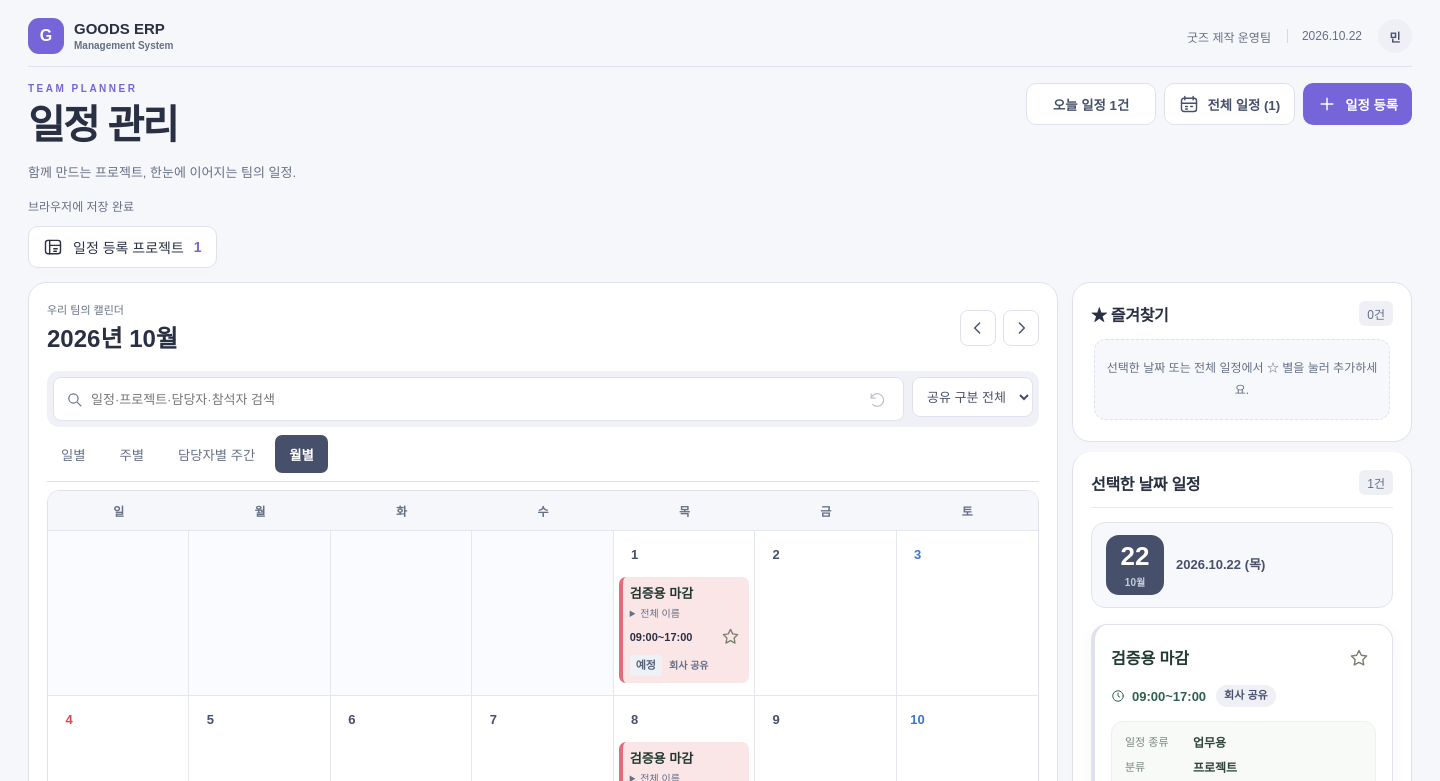
Test: 검색한 반복 일정도 선택 날짜에서 상태 변경·수정·삭제하면 해당 발생일에 적용된다
Type "검증용" into the field named "일정 검색". click: (473, 399)
box: [91,378,855,420]
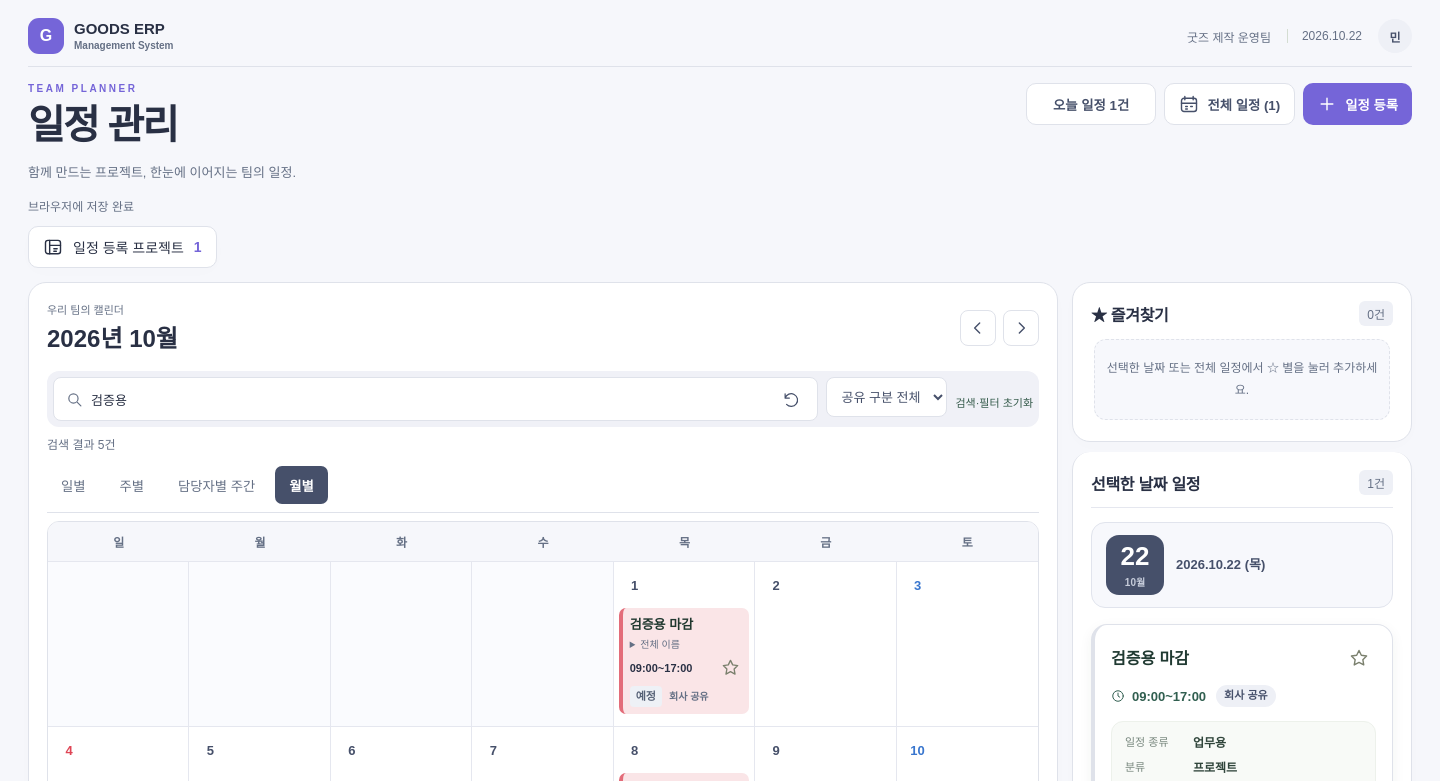
Click the text "1". click: (684, 644)
box: [614,561,755,726]
(page scrolled)
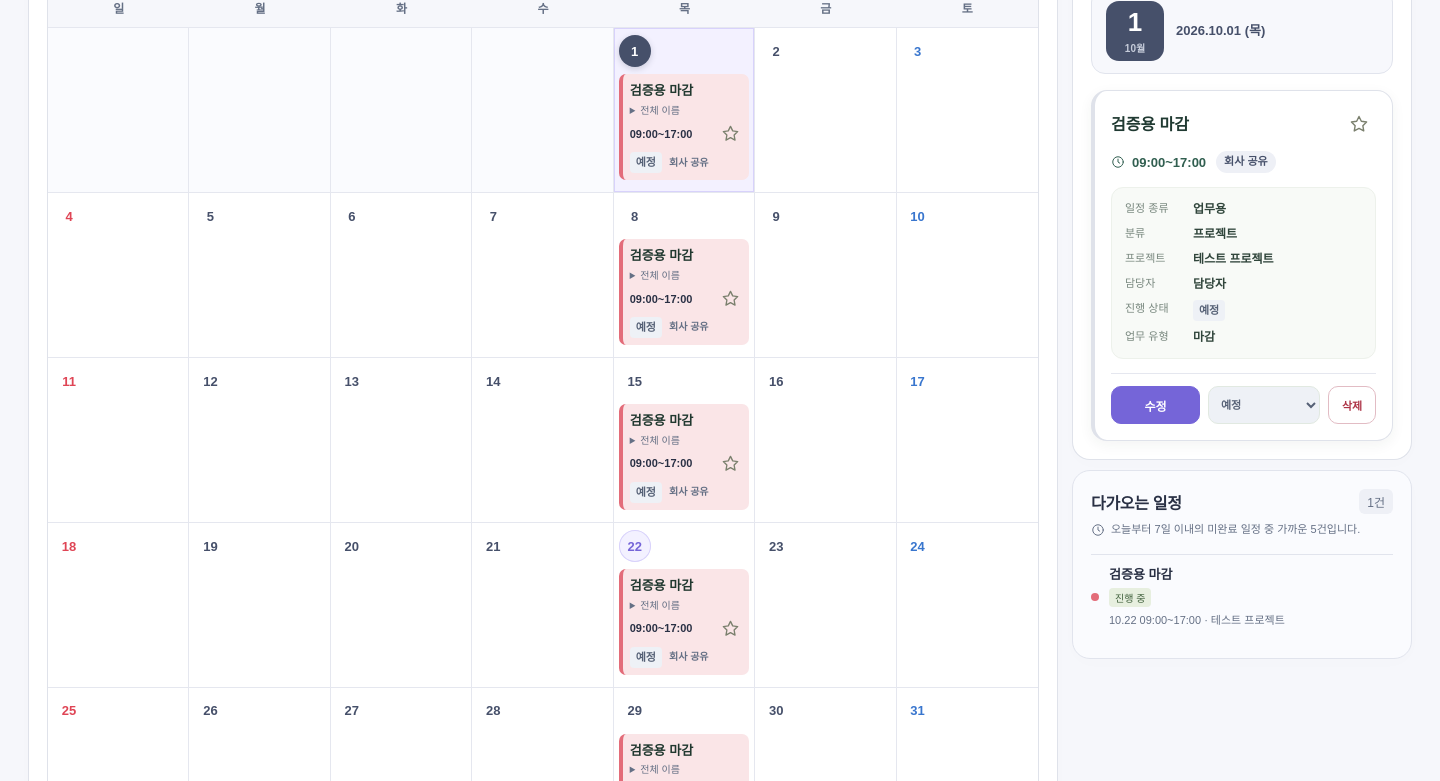
Select "완료" in the dropdown. click: (1264, 405)
box: [1208,386,1320,424]
Click the text "8". click: (684, 275)
box: [614,192,755,357]
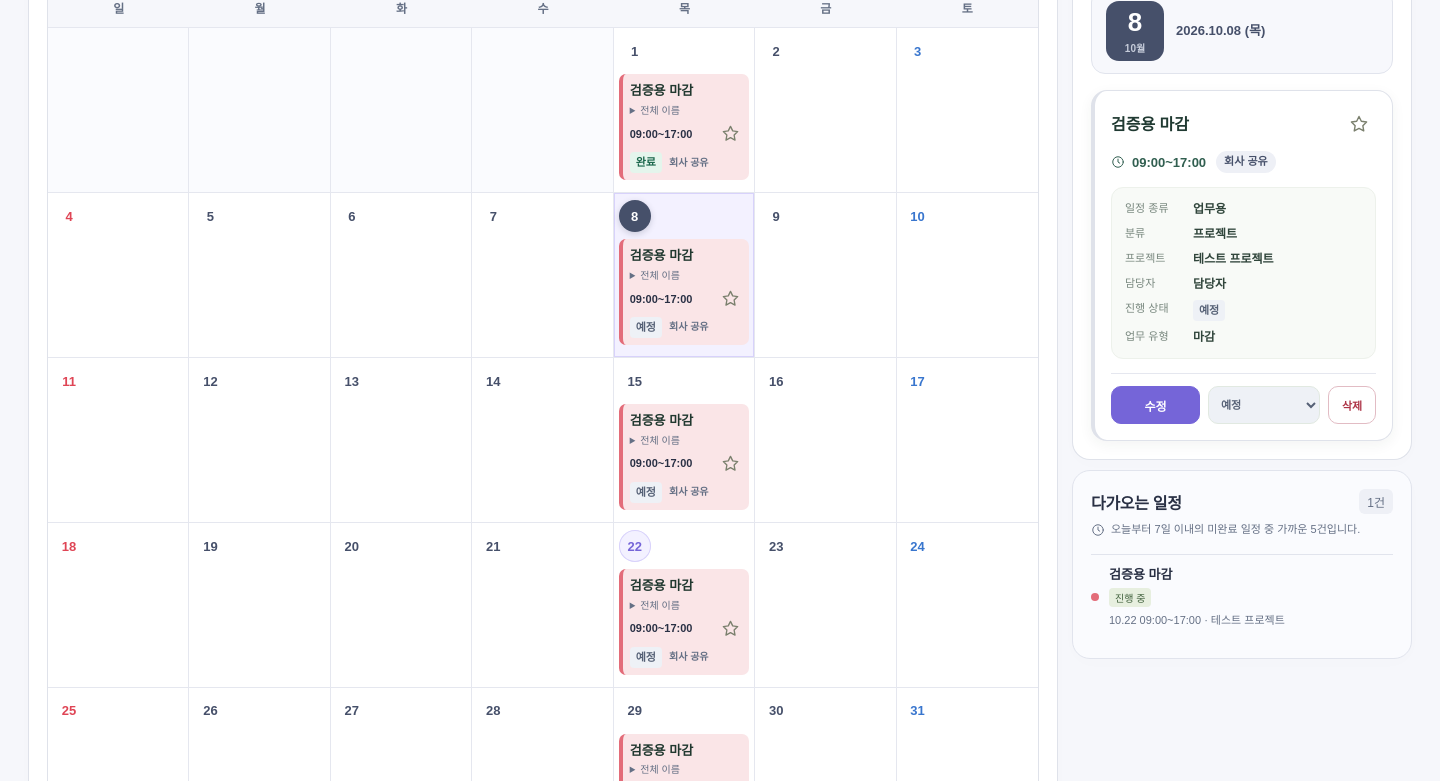
Click the button with aria-label "검증용 마감 일정 삭제". click: (1352, 405)
box: [1328,386,1376,424]
(page scrolled)
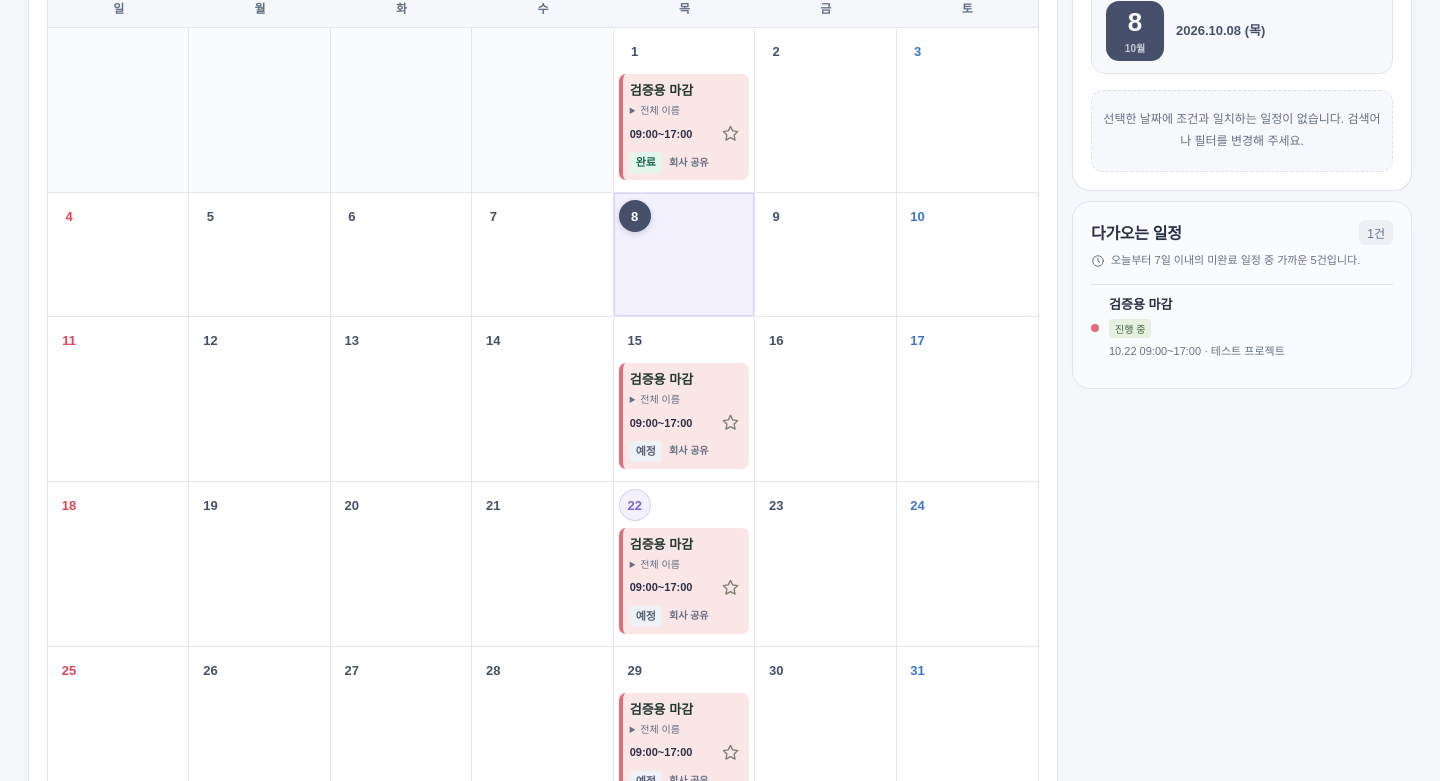
Click the text "15". click: (684, 399)
box: [614,316,755,481]
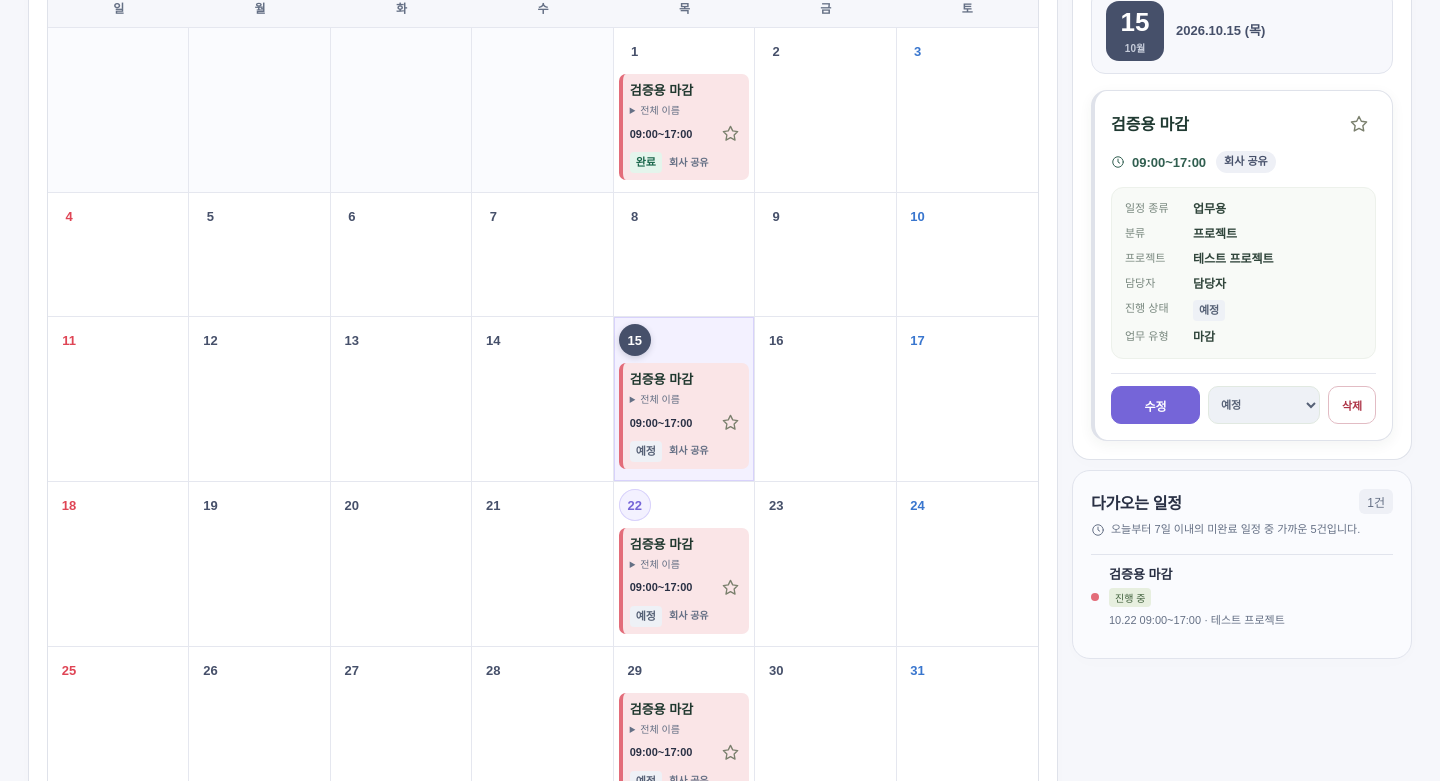
Click the button with aria-label "검증용 마감 일정 수정". click: (1156, 405)
box: [1111,386,1200,424]
(page scrolled)
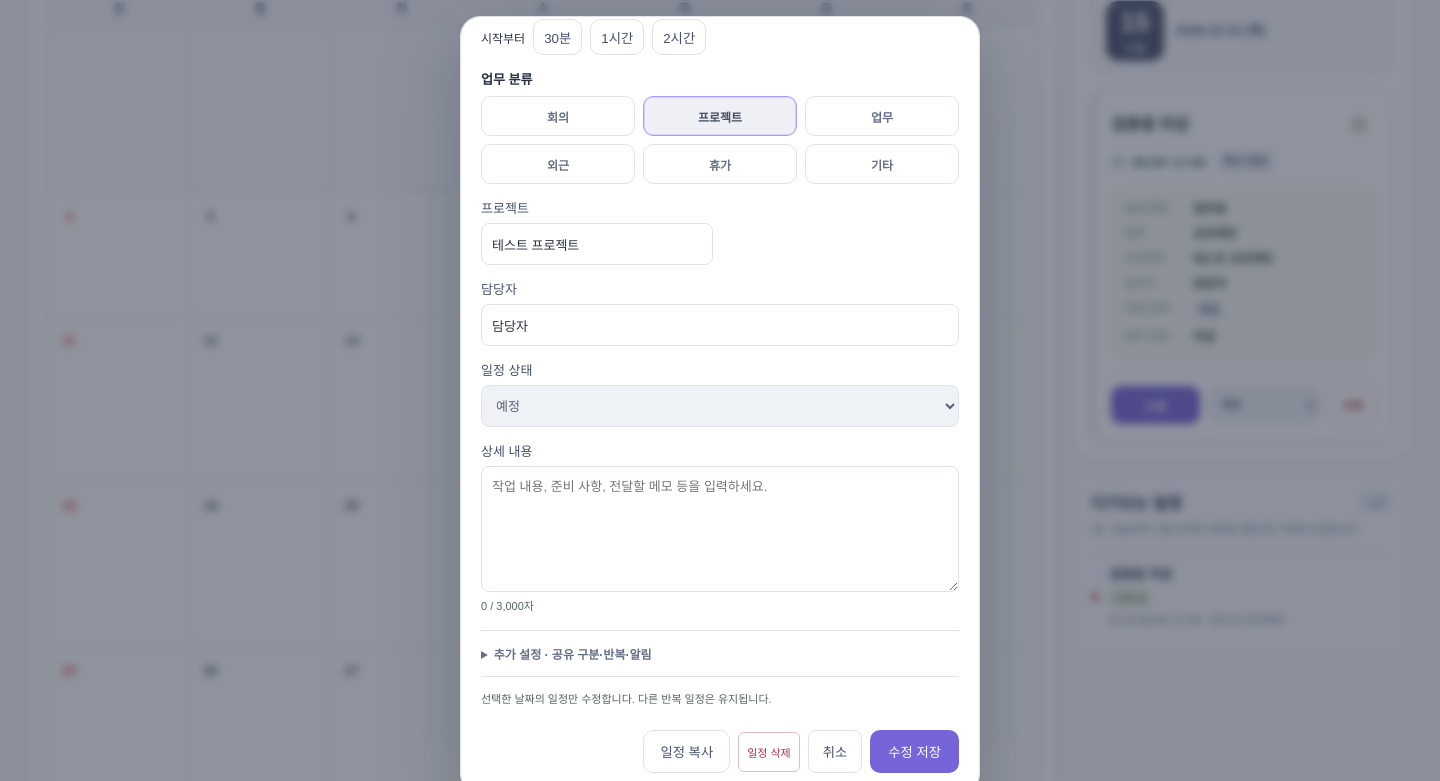
Expected: the text "선택한 날짜의 일정만 수정합니다. 다른 반복 일정은 유지됩니다." is shown, [481,693,772,705]
